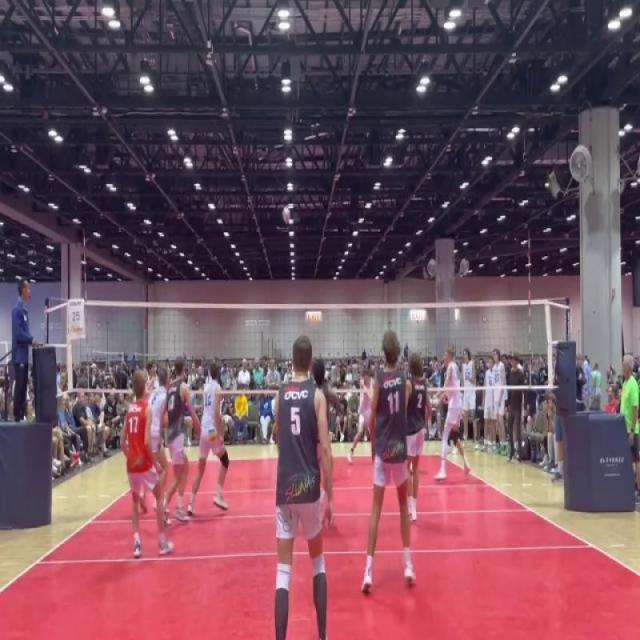volleyball: (280, 205, 292, 224)
